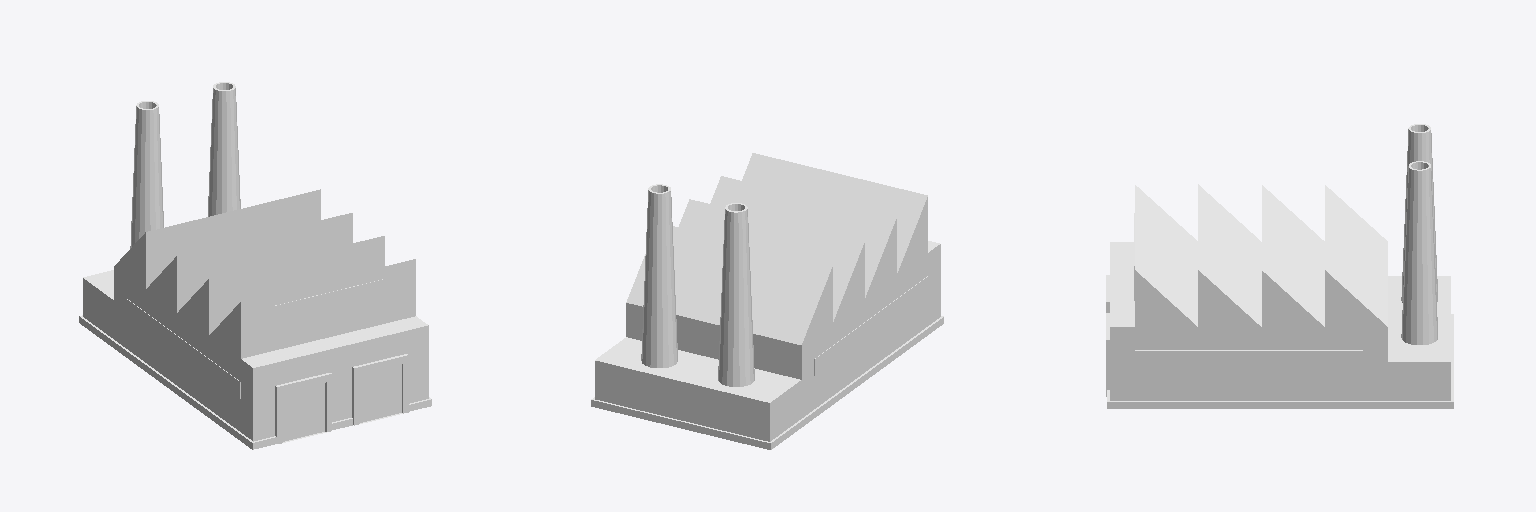
File: Building_Factory.obj
3 renders of one model, left to right at view 1: azimuth 30°, elevation 25°; view 2: azimuth 150°, elevation 25°; view 3: azimuth 270°, elevation 25°, orthographic.
Size of the model in its own units: 1640 by 1897 by 2750.